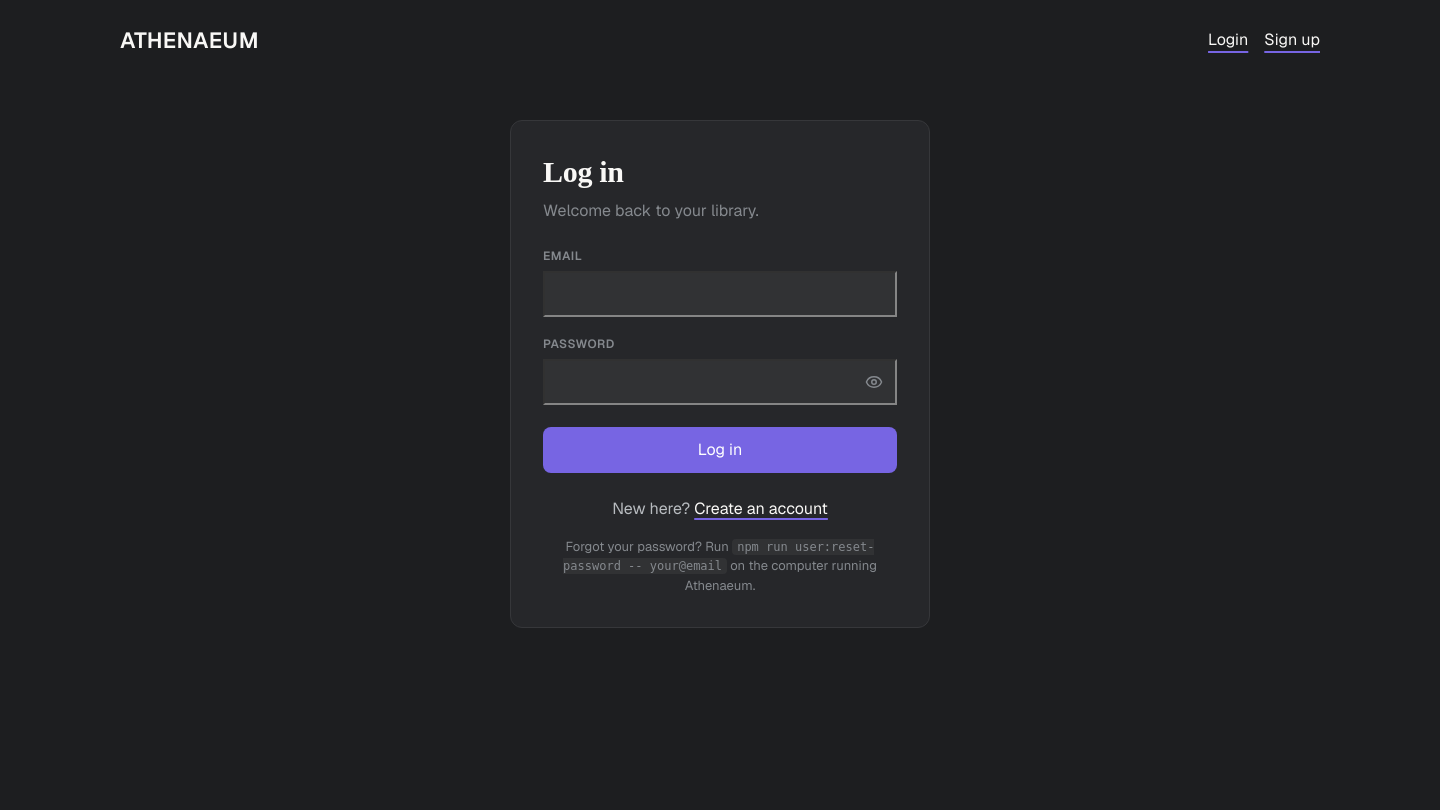
Test case: login › shows the server's error for a wrong password
The width and height of the screenshot is (1440, 810).
Type "reader@example.com" into the field labelled "Email". click: [720, 294]
box: [543, 270, 897, 316]
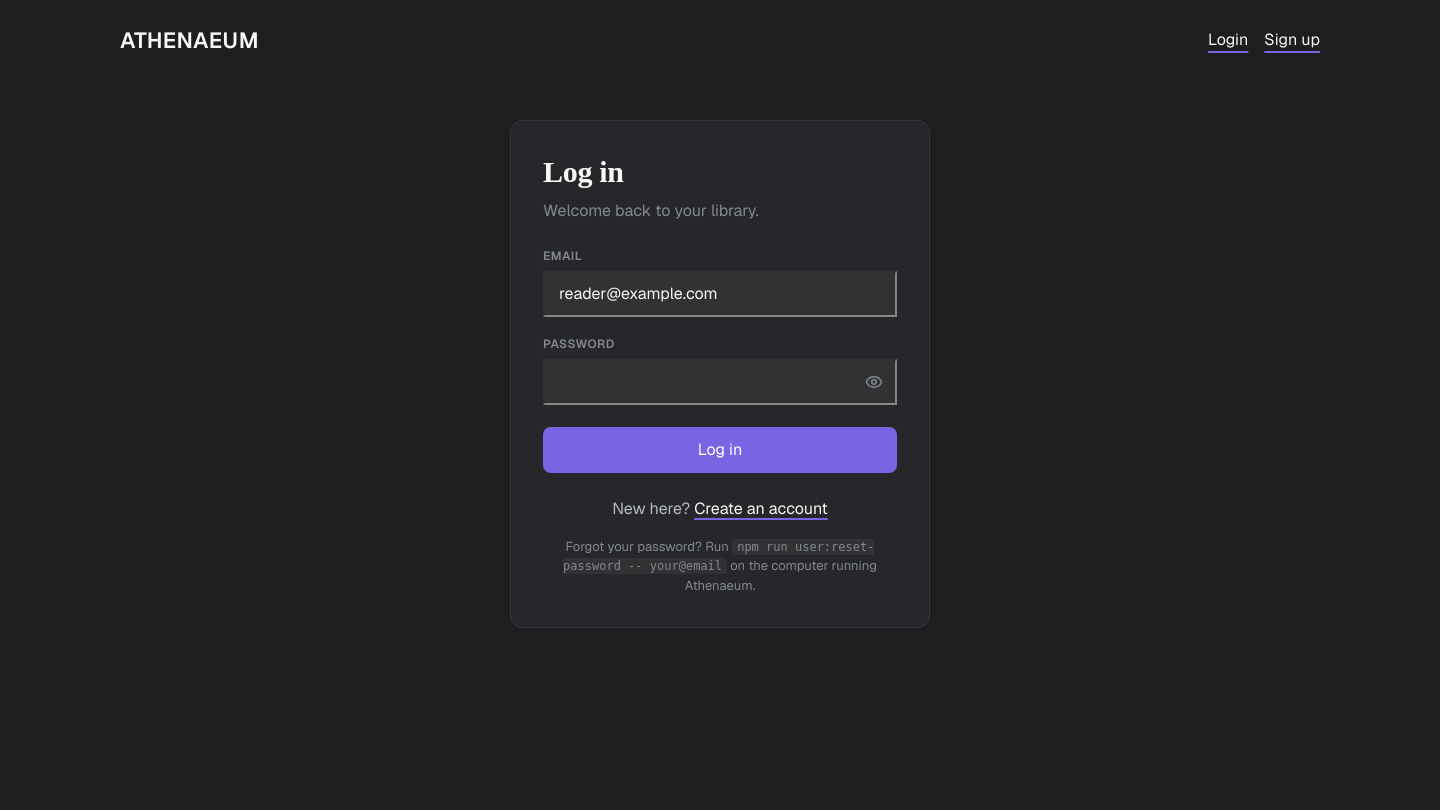
Type "wrong" into the password field labelled "Password". click: [720, 382]
box: [543, 358, 897, 404]
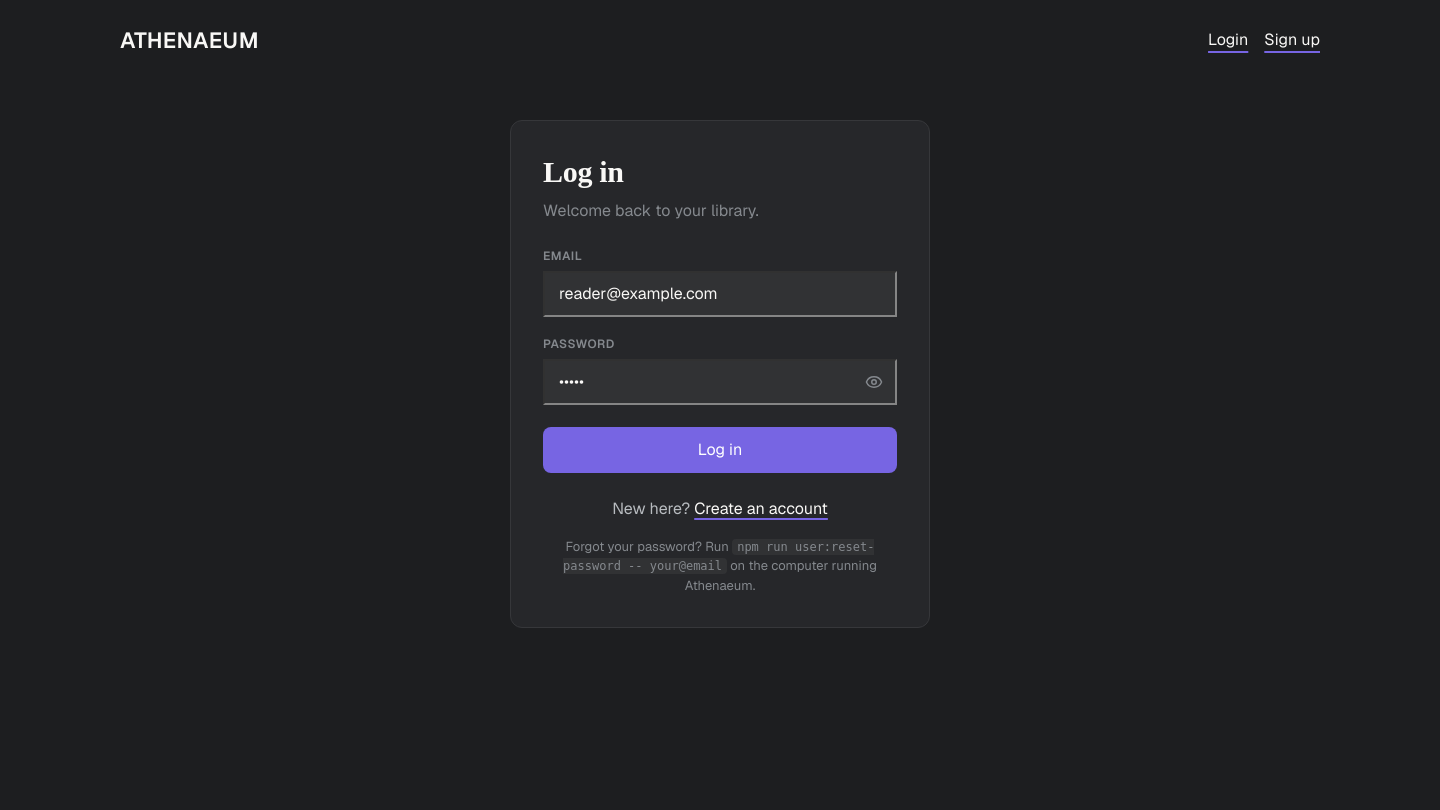
Click the button "Log in". click: [720, 450]
box: [543, 426, 897, 472]
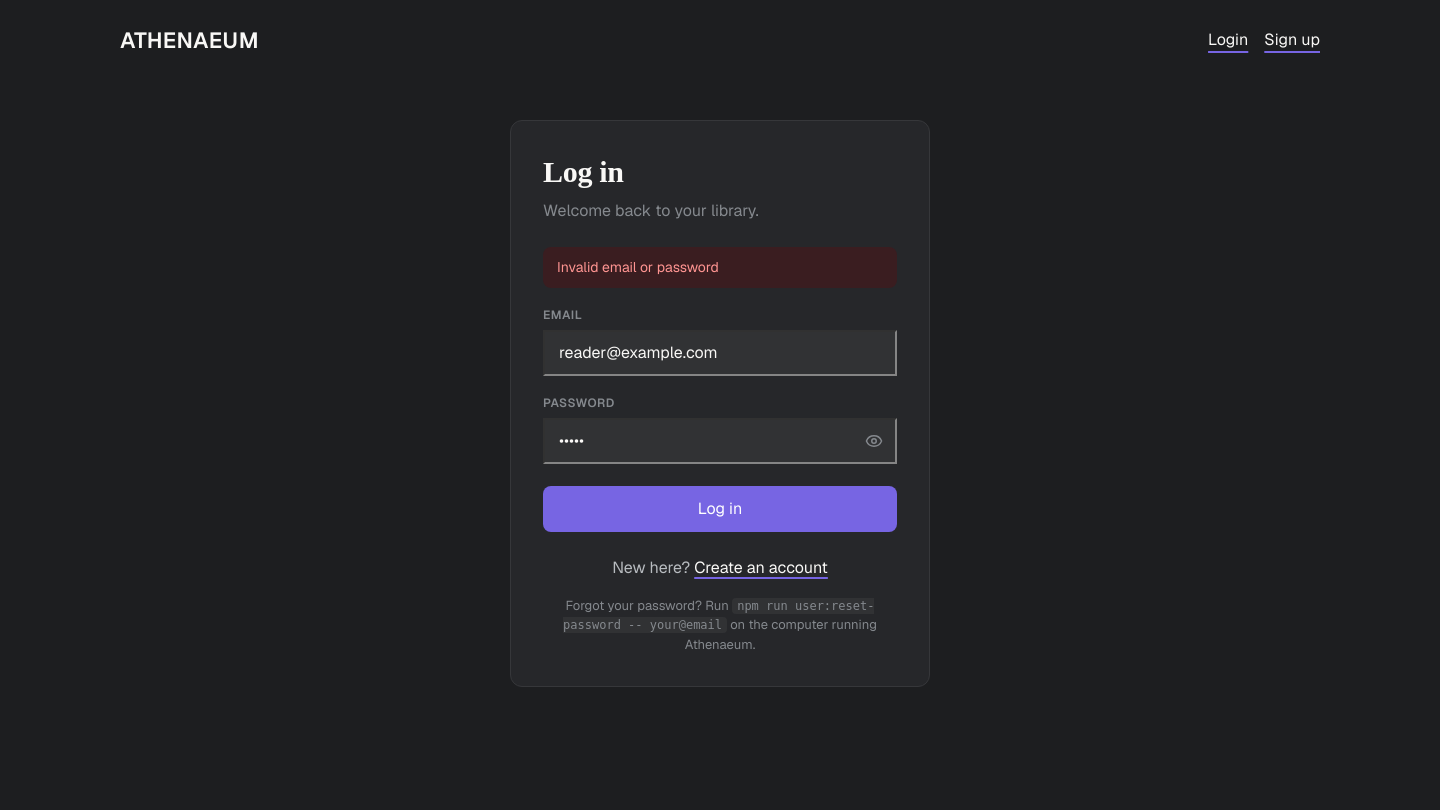
Expected: the heading "Log in" is shown, [543, 155, 624, 188]
Result: the message reads "Invalid email or password" at [557, 258, 719, 276]
